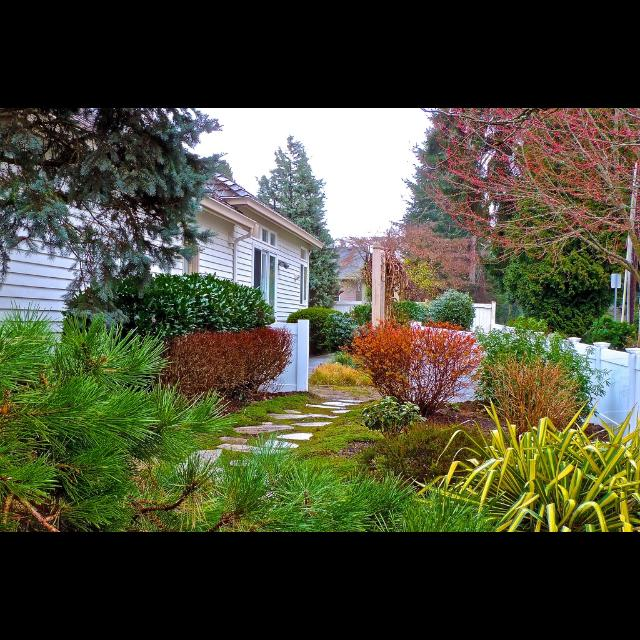Flower: (514, 318, 516, 322)
